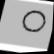no answer: (17, 7, 49, 37)
